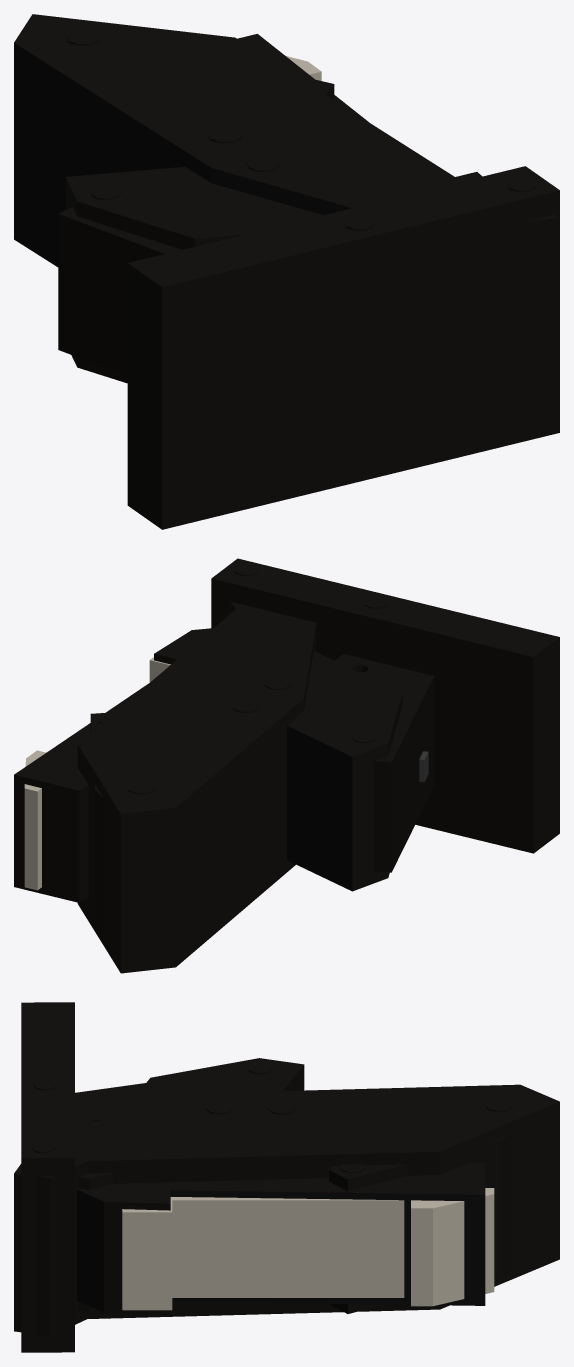
3 views of the same model, one above another, from view 1: azimuth 30°, elevation 25°; view 2: azimuth 150°, elevation 25°; view 3: azimuth 270°, elevation 25° (orthographic). The views are drawn at different scales.
Visible parts, largest first — view 1: bau0082120221-1, bau0082118369-1, bau0082071794-1, bau0082109884-1, bau0082065270-1; view 2: bau0082118369-1, bau0082120221-1, bau0082071794-1, bau0082065270-1, bau0082109884-1, bau0019426112-1, bau0082072085-1; view 3: bau0082118369-1, bau0019426112-1, bau0082065270-1, bau0082120221-1, bau0082071794-1, bau0082072085-1, bau0082109884-1.
Boxes of the visible parts, x1,y1,x2,y2 form: bau0082120221-1: (127,166,559,529); bau0082118369-1: (14,14,556,417); bau0082071794-1: (65,166,322,383); bau0082109884-1: (58,207,181,375); bau0082065270-1: (237,34,482,181); bau0082118369-1: (77,601,316,973); bau0082120221-1: (211,558,559,853); bau0082071794-1: (287,651,402,891); bau0082065270-1: (14,628,213,902); bau0082109884-1: (335,654,434,872); bau0019426112-1: (24,657,170,890); bau0082072085-1: (90,712,114,933); bau0082118369-1: (14,1084,559,1335); bau0019426112-1: (122,1188,494,1310); bau0082065270-1: (77,1162,485,1314); bau0082120221-1: (21,1002,74,1352); bau0082071794-1: (79,1058,304,1312); bau0082072085-1: (329,1133,512,1313); bau0082109884-1: (75,1083,145,1125).
Bounding box in the file's own units: 53.53 × 30.4 × 76.32.
